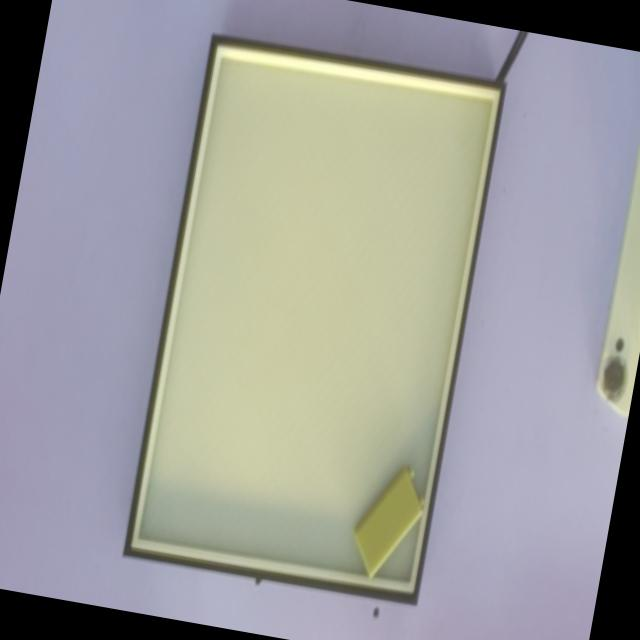bateria: (353, 463, 427, 577)
mesa: (122, 35, 506, 607)
